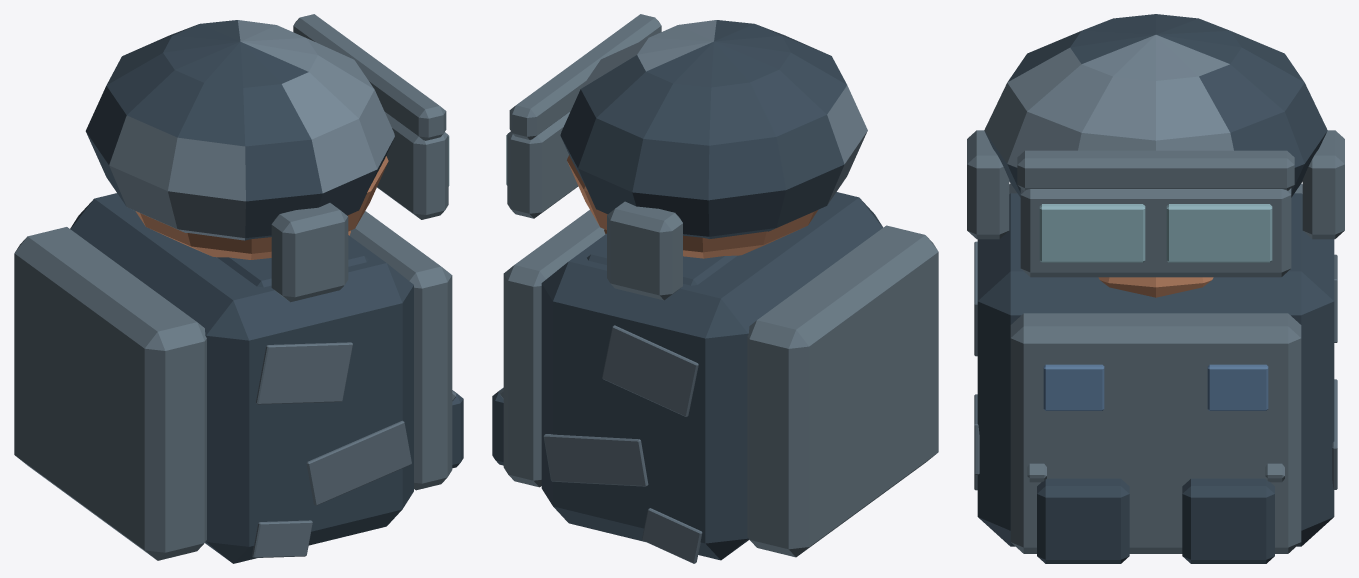
File: night-ops.carbon-camo.glb
3 views of the same model, side by side, from view 1: azimuth 30°, elevation 25°; view 2: azimuth 150°, elevation 25°; view 3: azimuth 270°, elevation 25° (orthographic). The views are drawn at different scales.
Visible parts, largest first — view 1: night-ops_carbon-camo__main__torso_finish_657682_0.03, night-ops_carbon-camo__main__torso_finish_3c4d5b_0.03, night-ops_carbon-camo__main__head_finish_3c4d5b_0.03|finish_, night-ops_carbon-camo__main__head_finish_657682_0.03, night-ops_carbon-camo__main__torso_finish_60717e_0.03, night-ops_carbon-camo__main__head_finish_bb8262_0.03; view 2: night-ops_carbon-camo__main__torso_finish_657682_0.03, night-ops_carbon-camo__main__torso_finish_3c4d5b_0.03, night-ops_carbon-camo__main__head_finish_3c4d5b_0.03|finish_, night-ops_carbon-camo__main__head_finish_657682_0.03, night-ops_carbon-camo__main__torso_finish_60717e_0.03, night-ops_carbon-camo__main__head_finish_bb8262_0.03; view 3: night-ops_carbon-camo__main__torso_finish_657682_0.03, night-ops_carbon-camo__main__torso_finish_3c4d5b_0.03, night-ops_carbon-camo__main__head_finish_3c4d5b_0.03|finish_, night-ops_carbon-camo__main__head_finish_657682_0.03, night-ops_carbon-camo__main__head_finish_91b6c0_0.03, night-ops_carbon-camo__main__torso_finish_5f7fa2_0.03, night-ops_carbon-camo__main__torso_finish_60717e_0.03, night-ops_carbon-camo__main__head_finish_bb8262_0.03.
Part boxes in pixels (box(x1,y1,x2,y2)): night-ops_carbon-camo__main__torso_finish_657682_0.03: box(14, 211, 455, 560); night-ops_carbon-camo__main__torso_finish_3c4d5b_0.03: box(70, 193, 463, 563); night-ops_carbon-camo__main__head_finish_3c4d5b_0.03|finish_: box(85, 20, 394, 240); night-ops_carbon-camo__main__head_finish_657682_0.03: box(271, 14, 448, 302); night-ops_carbon-camo__main__torso_finish_60717e_0.03: box(252, 342, 411, 557); night-ops_carbon-camo__main__head_finish_bb8262_0.03: box(135, 156, 388, 259); night-ops_carbon-camo__main__torso_finish_657682_0.03: box(499, 210, 938, 557); night-ops_carbon-camo__main__torso_finish_3c4d5b_0.03: box(492, 192, 883, 560); night-ops_carbon-camo__main__head_finish_3c4d5b_0.03|finish_: box(560, 20, 867, 238); night-ops_carbon-camo__main__head_finish_657682_0.03: box(507, 14, 682, 300); night-ops_carbon-camo__main__torso_finish_60717e_0.03: box(543, 325, 702, 563); night-ops_carbon-camo__main__head_finish_bb8262_0.03: box(567, 155, 817, 258); night-ops_carbon-camo__main__torso_finish_657682_0.03: box(1009, 183, 1302, 553); night-ops_carbon-camo__main__torso_finish_3c4d5b_0.03: box(977, 193, 1334, 563); night-ops_carbon-camo__main__head_finish_3c4d5b_0.03|finish_: box(984, 14, 1327, 197); night-ops_carbon-camo__main__head_finish_657682_0.03: box(967, 130, 1344, 277); night-ops_carbon-camo__main__head_finish_91b6c0_0.03: box(1039, 204, 1272, 262); night-ops_carbon-camo__main__torso_finish_5f7fa2_0.03: box(1043, 364, 1268, 410); night-ops_carbon-camo__main__torso_finish_60717e_0.03: box(974, 241, 1337, 490); night-ops_carbon-camo__main__head_finish_bb8262_0.03: box(1098, 277, 1213, 297).
Bounding box in the file's own units: 30.25 × 39.5 × 28.6.
